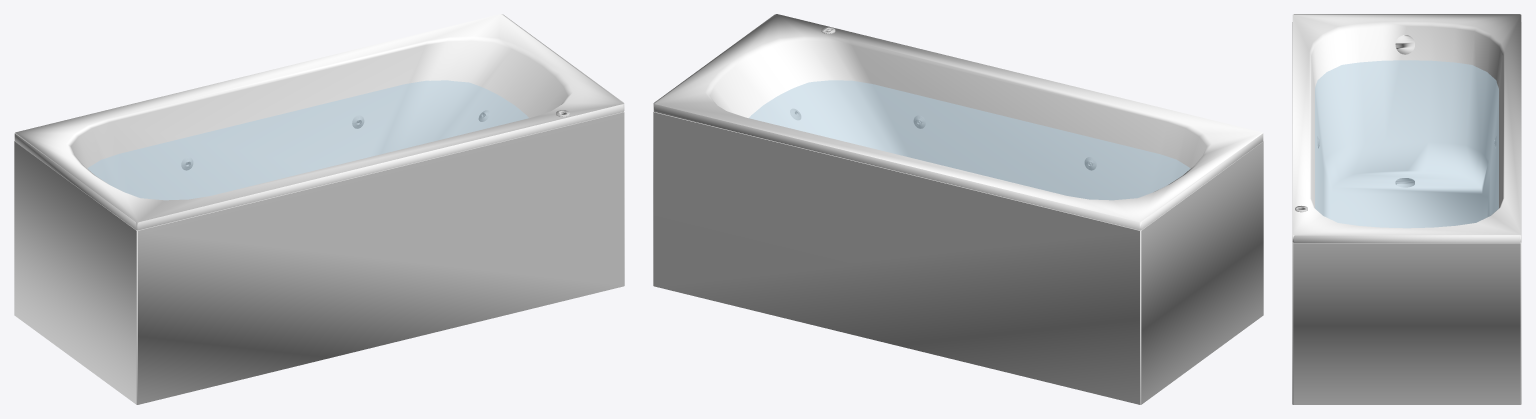
File: bathtub_jet_system.glb
The picture shows the model from 3 angles, left to right: view 1: azimuth 30°, elevation 25°; view 2: azimuth 150°, elevation 25°; view 3: azimuth 270°, elevation 25°; orthographic projection. The views are drawn at different scales.
Visible parts, largest first — view 1: bathtub_jet_system; view 2: bathtub_jet_system; view 3: bathtub_jet_system.
Boxes of the visible parts, x1,y1,x2,y2 form: bathtub_jet_system: [14, 14, 624, 404]; bathtub_jet_system: [653, 14, 1263, 404]; bathtub_jet_system: [1292, 14, 1521, 404].
Size of the model in its own units: 1.6 by 0.58 by 0.7.
Materials: 6 (1 with a texture image).
